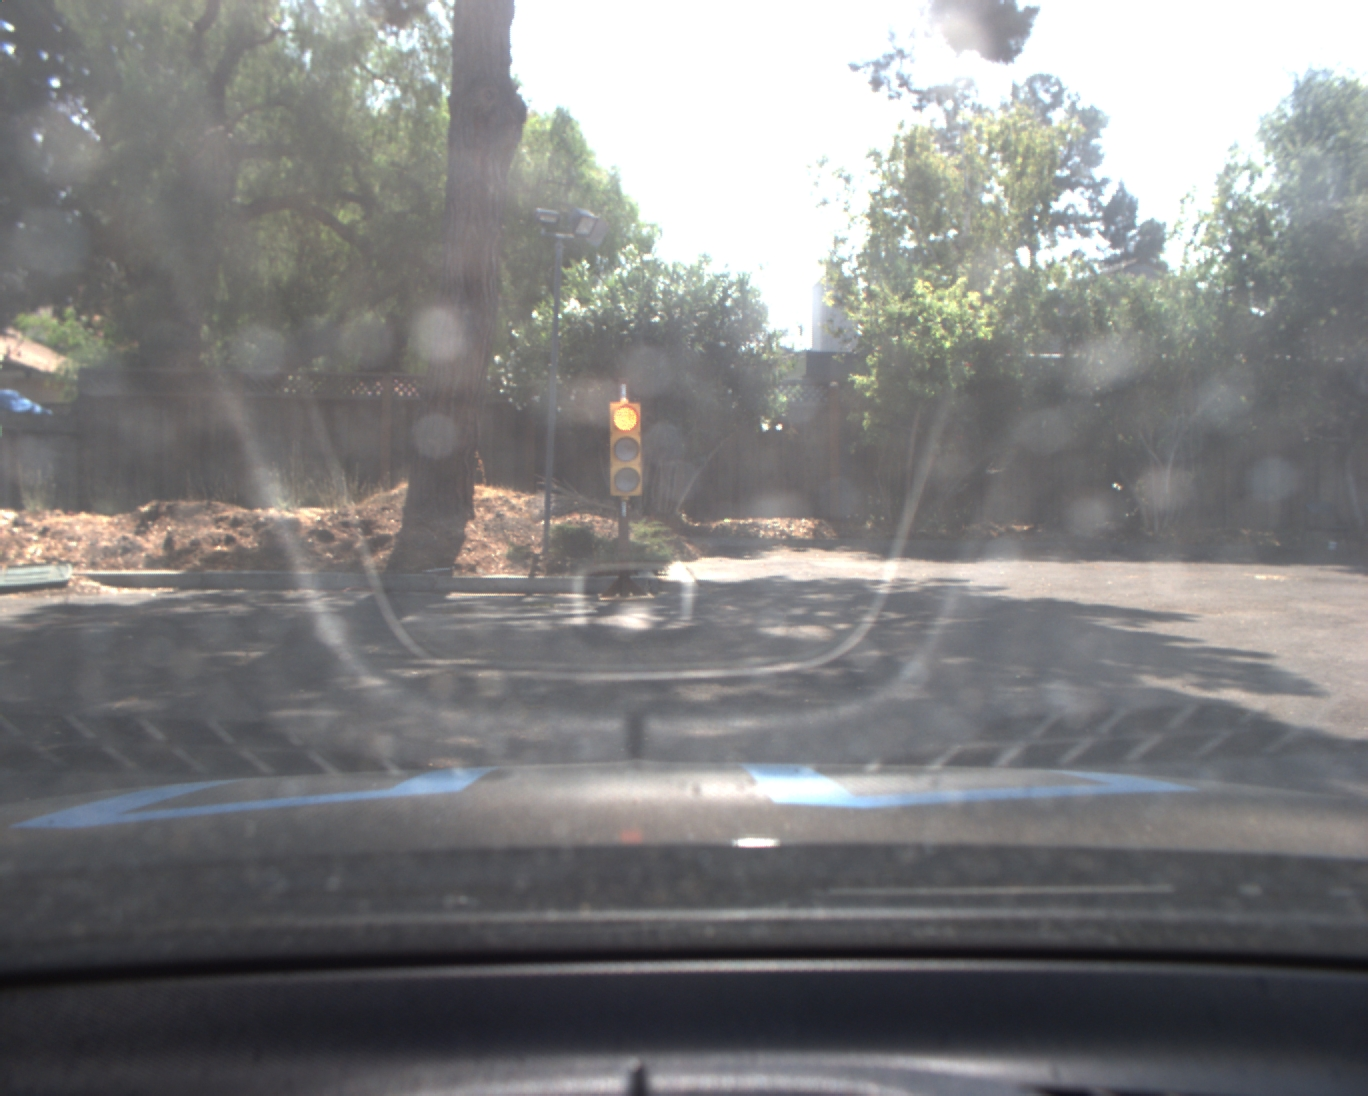red: (607, 398, 649, 498)
